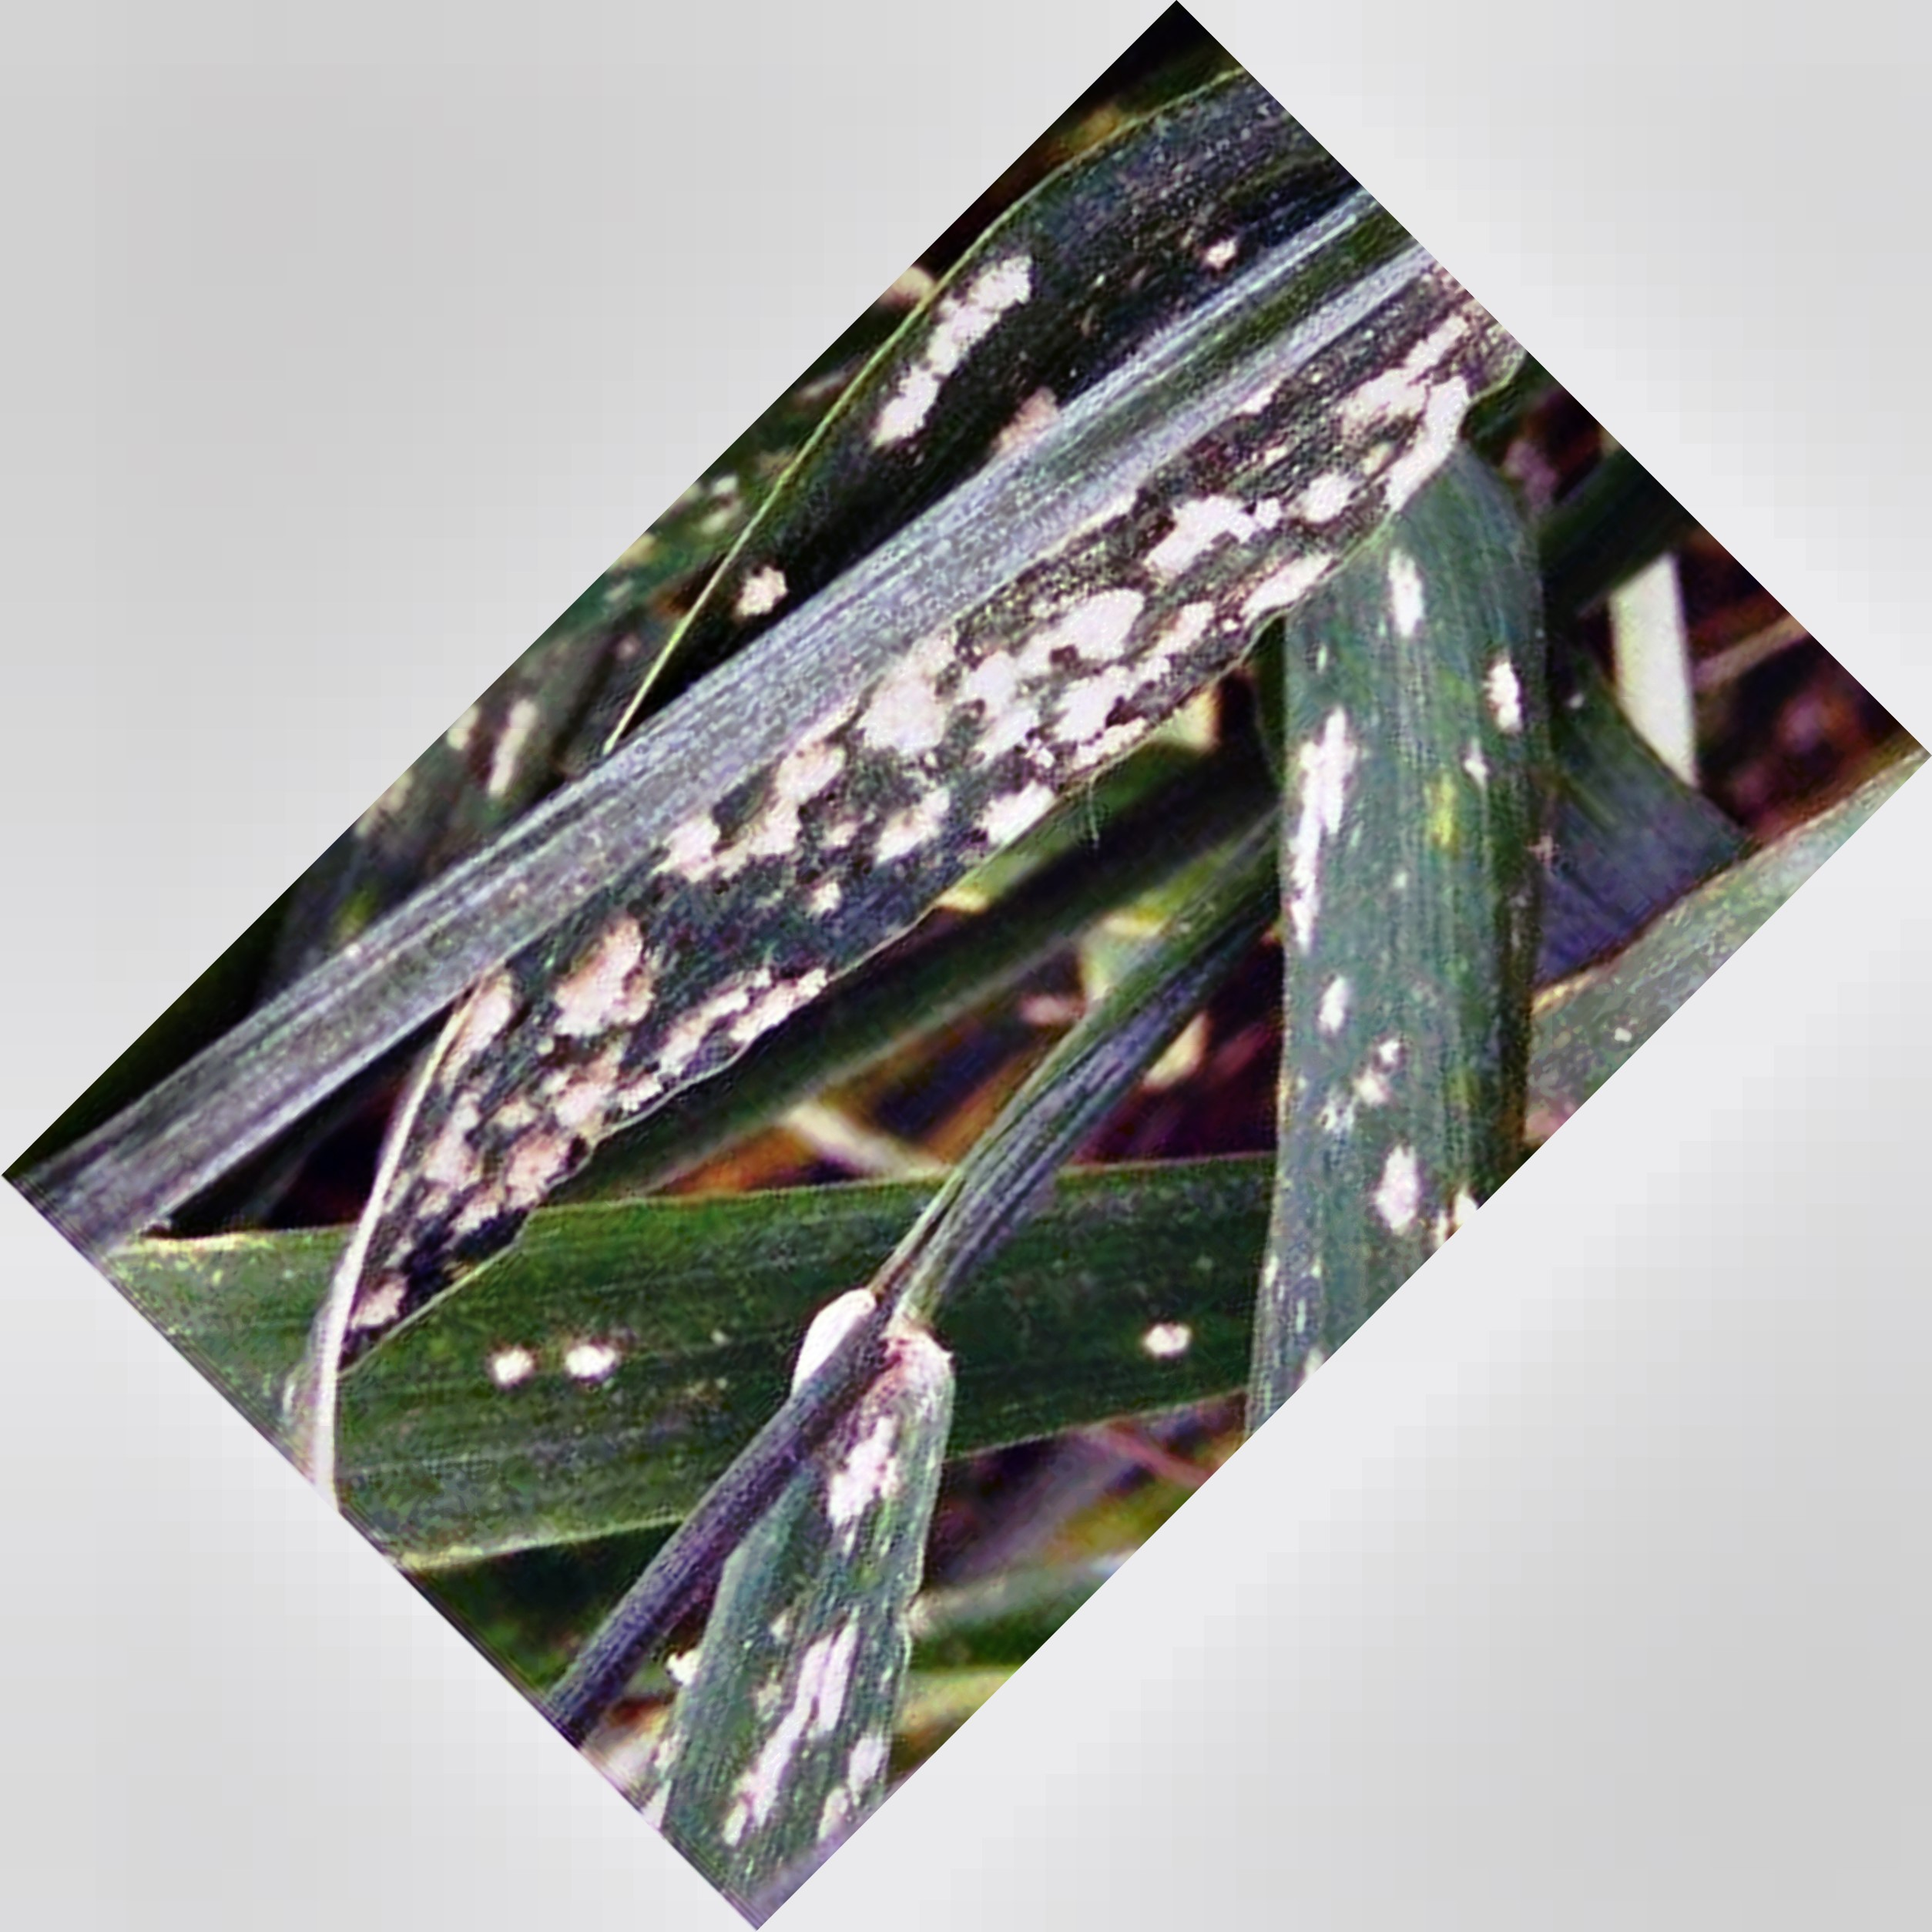Powdery Mildew: (416, 306, 1470, 1207)
